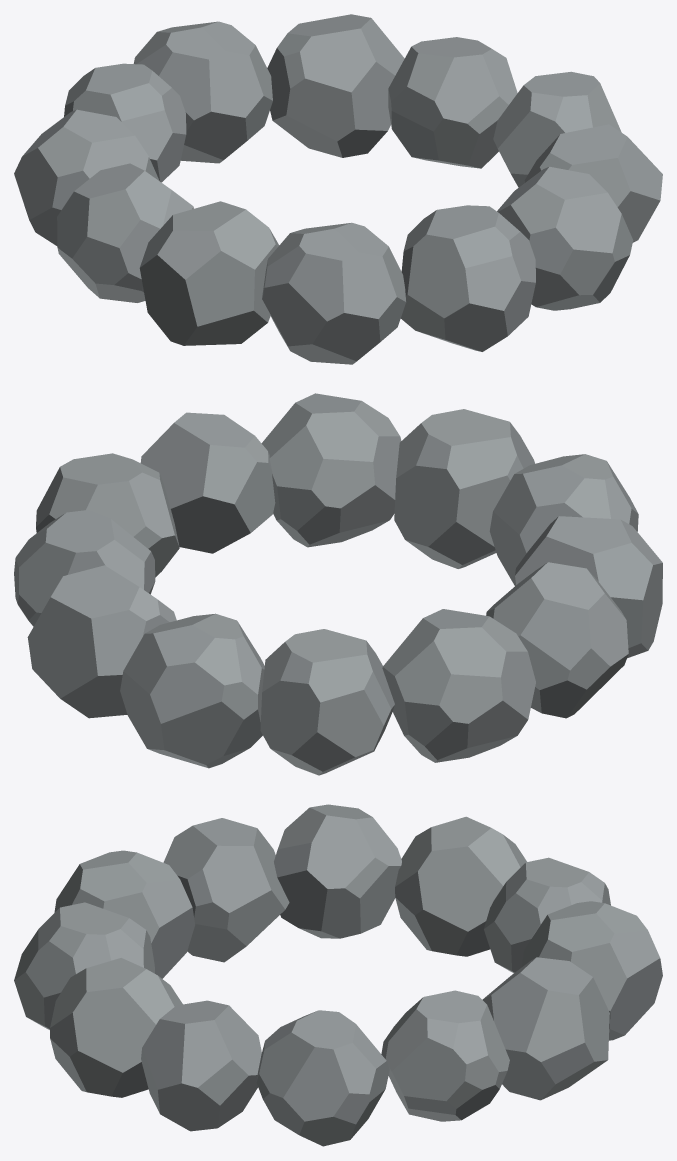
Rendered from StoneCircle_01.fbx.
The picture shows the model from 3 angles, top to bottom: view 1: azimuth 30°, elevation 25°; view 2: azimuth 150°, elevation 25°; view 3: azimuth 270°, elevation 25°; orthographic projection. The views are drawn at different scales.
Visible parts, largest first — view 1: StoneCircle_01_LOD0; view 2: StoneCircle_01_LOD0; view 3: StoneCircle_01_LOD0.
Boxes of the visible parts, <box> form: StoneCircle_01_LOD0: <box>14,14,662,364</box>; StoneCircle_01_LOD0: <box>14,393,662,775</box>; StoneCircle_01_LOD0: <box>14,804,662,1146</box>.
Size of what is drawn, in the model's own units: 1.14 by 0.2711 by 1.21.
